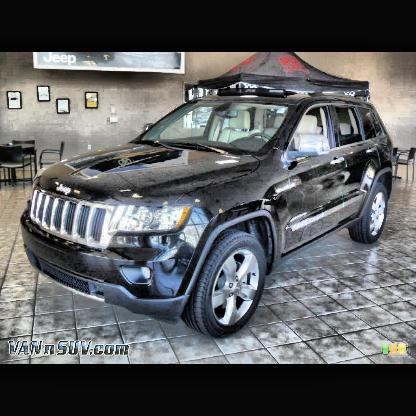Jeep Grand Cherokee SUV 2012: (20, 97, 396, 342)
